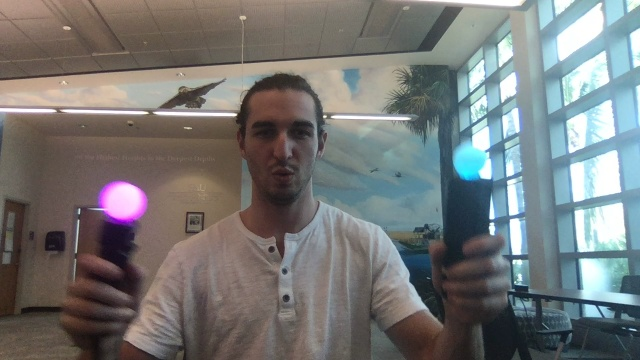wand: (101, 182, 147, 221), (452, 144, 487, 178)
